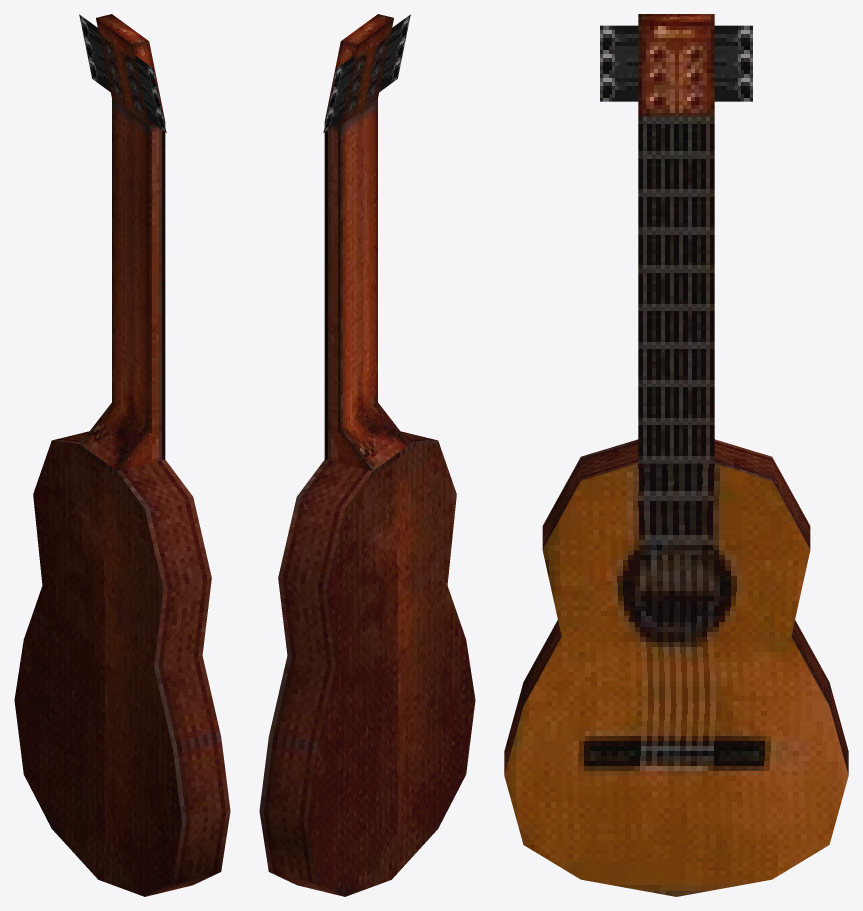
Rendered from psx_low_poly_acoustic_guitar.glb.
3 views of the same model, side by side, from view 1: azimuth 30°, elevation 25°; view 2: azimuth 150°, elevation 25°; view 3: azimuth 270°, elevation 25° (orthographic). The views are drawn at different scales.
Parts seen in each view (by area): view 1: Acoustic Guitar; view 2: Acoustic Guitar; view 3: Acoustic Guitar.
Boxes of the visible parts, x1=… form: Acoustic Guitar: x1=14, y1=14, x2=230, y2=896; Acoustic Guitar: x1=259, y1=14, x2=475, y2=896; Acoustic Guitar: x1=504, y1=14, x2=848, y2=896.
Bounding box in the file's own units: 0.2997 × 5 × 1.8.
Materials: 1 (1 with a texture image).
